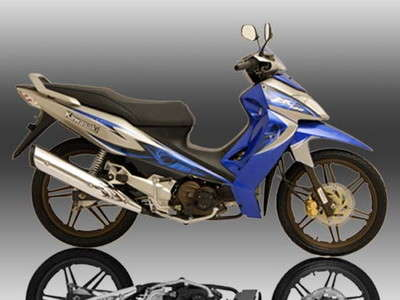motorcycle: (13, 48, 388, 257)
